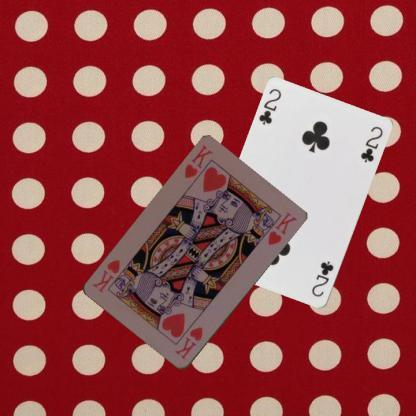2c: (256, 86, 283, 127), (309, 258, 335, 299)
Kh: (181, 142, 214, 180), (172, 324, 204, 361)
